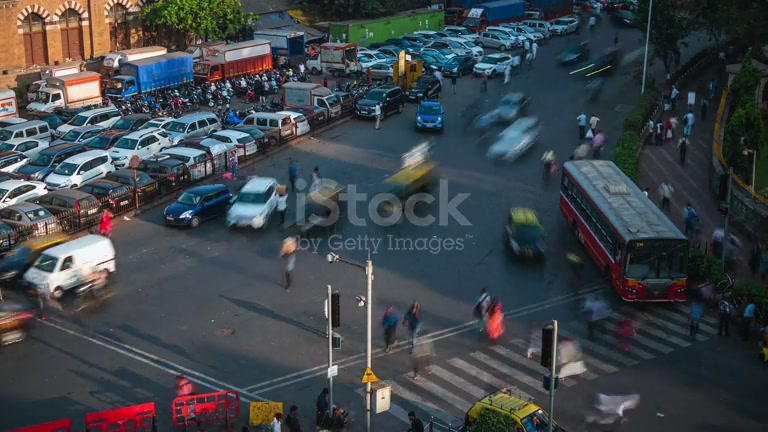bus: (558, 158, 691, 304), (192, 41, 274, 85)
car: (20, 232, 118, 301), (17, 187, 105, 234), (461, 390, 555, 432), (225, 175, 287, 231), (163, 182, 233, 229), (140, 144, 215, 186), (42, 149, 114, 191), (171, 389, 241, 431), (485, 115, 542, 165), (502, 206, 548, 262), (0, 202, 68, 239), (0, 287, 41, 347), (472, 92, 530, 131), (584, 391, 642, 429), (78, 178, 135, 216), (107, 131, 162, 169), (249, 109, 311, 139), (354, 86, 406, 120), (207, 127, 261, 159), (0, 178, 48, 212), (473, 53, 514, 80), (415, 100, 445, 132)
pedestrian: (718, 295, 734, 338), (315, 387, 331, 429), (285, 405, 303, 432), (407, 411, 423, 431), (271, 412, 283, 431)
truck: (280, 82, 329, 130)
